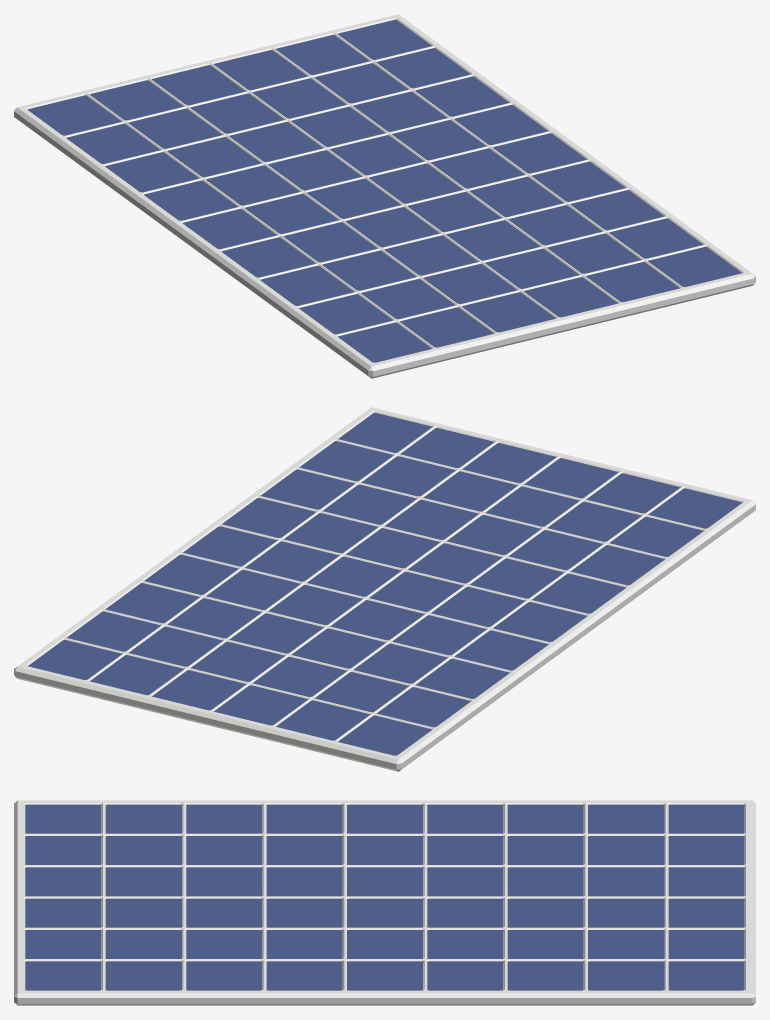
The model's file is ax_power_04_conformal_solar_l.glb.
3 renders of one model, top to bottom at view 1: azimuth 30°, elevation 25°; view 2: azimuth 150°, elevation 25°; view 3: azimuth 270°, elevation 25°, orthographic. The views are drawn at different scales.
Parts seen in each view (by area): view 1: solar_cells, skin_panel; view 2: solar_cells, skin_panel; view 3: solar_cells, skin_panel.
Boxes of the visible parts, box(x1,y1,x2,y2) form: solar_cells: box(27, 19, 741, 362); skin_panel: box(14, 14, 755, 378); solar_cells: box(28, 412, 742, 755); skin_panel: box(14, 407, 755, 771); solar_cells: box(25, 804, 744, 990); skin_panel: box(14, 800, 755, 1005).
Bounding box in the file's own units: 1.5 × 0.045 × 2.4.
